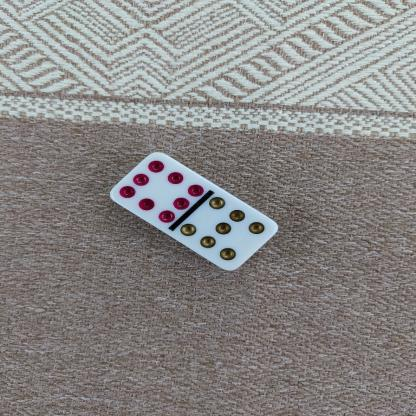pip-7: (180, 198, 278, 270)
pip-8: (110, 152, 204, 223)
